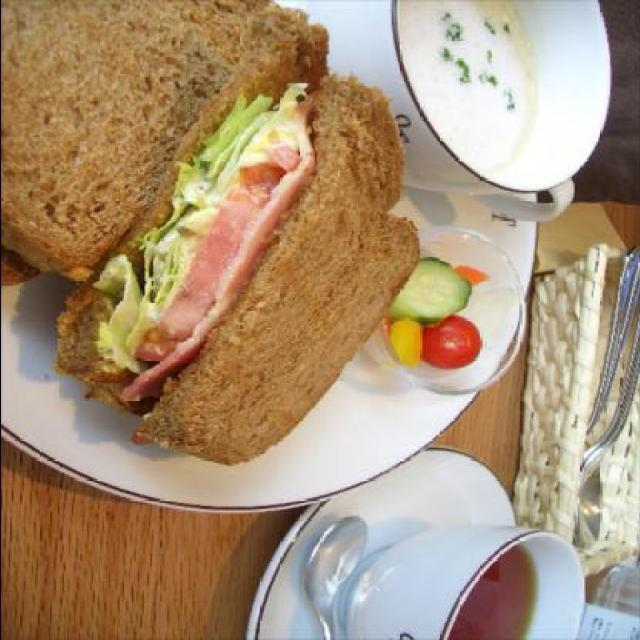Sandwich: (49, 74, 426, 466), (1, 0, 330, 286)
